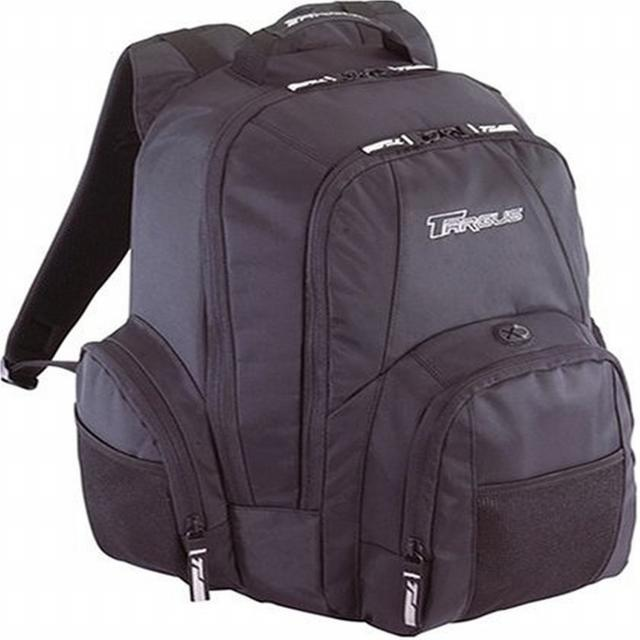Backpacks: (75, 13, 640, 632)
